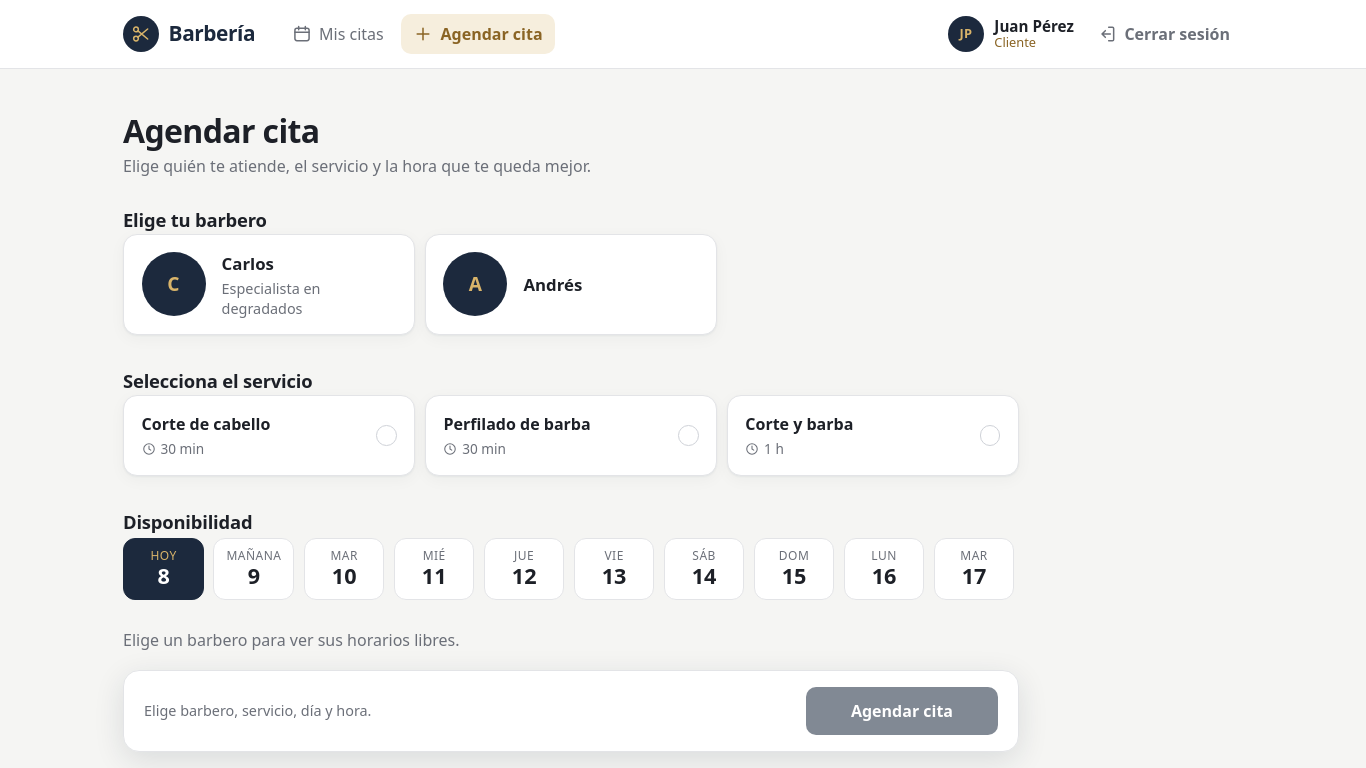
Test: agendar cita (HU-01, HU-02, HU-07) › agenda la cita y confirma en Mis citas
Click the radio button labelled "Carlos".
click(269, 284)  # box 123,234 -> 415,335
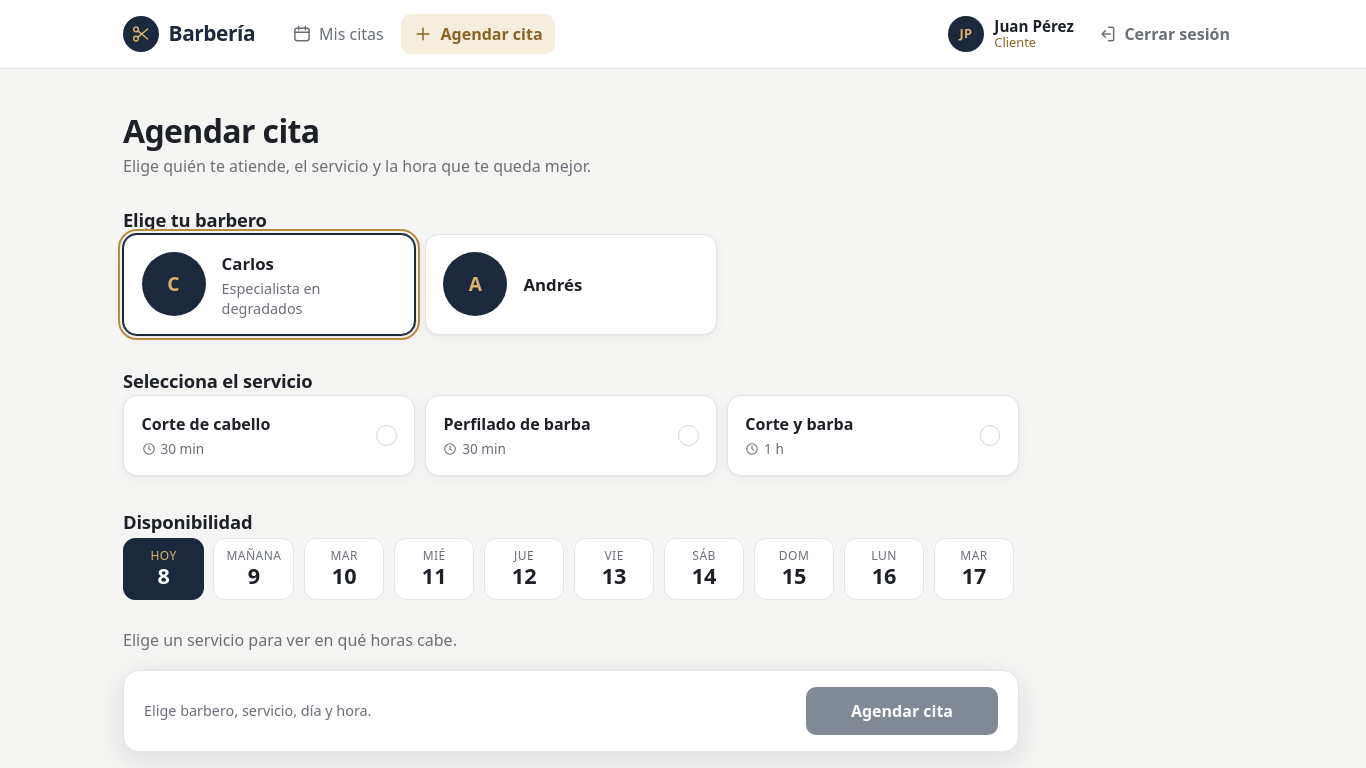
Click the radio button labelled "Corte de cabello".
click(269, 435)  # box 123,395 -> 415,476
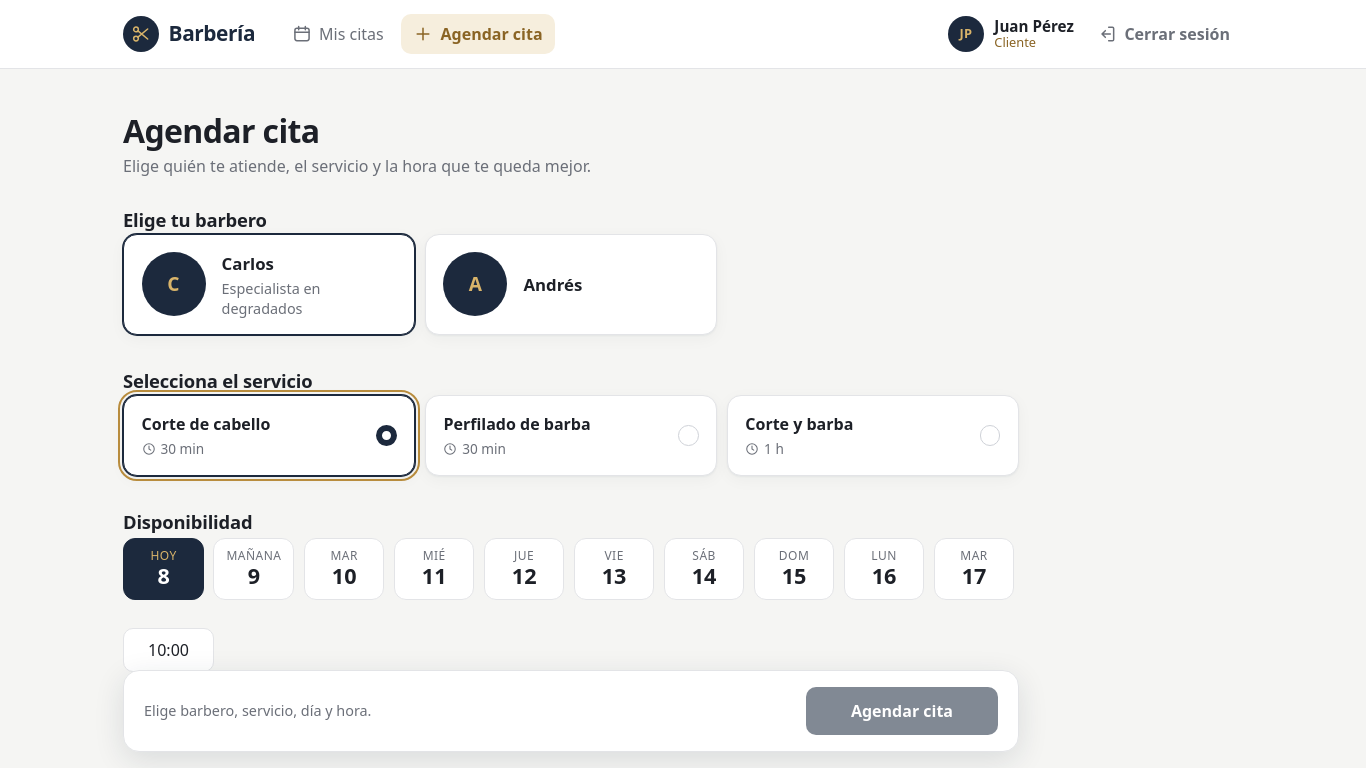
Click the radio button labelled "Mañana 9".
click(254, 569)  # box 213,538 -> 294,600
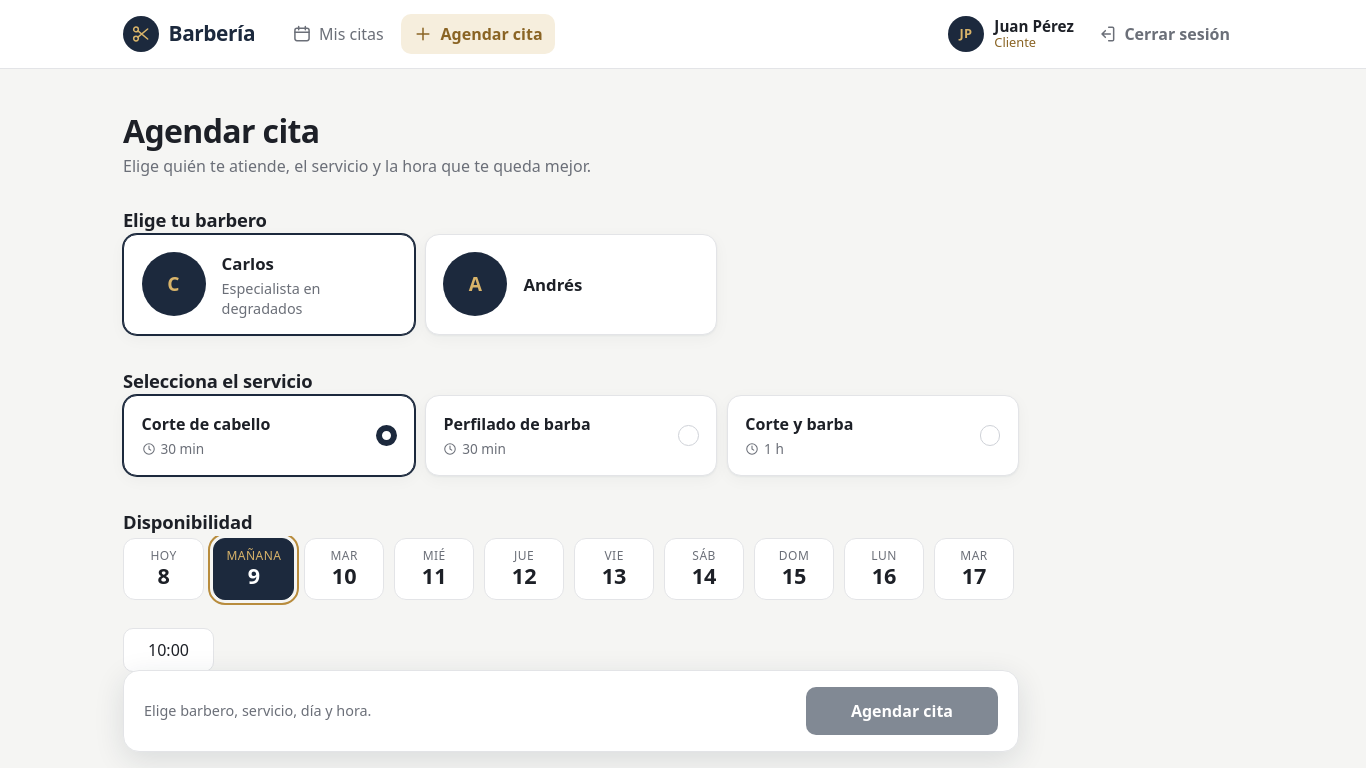
Click the radio button labelled "10:00".
click(168, 650)  # box 123,628 -> 214,672
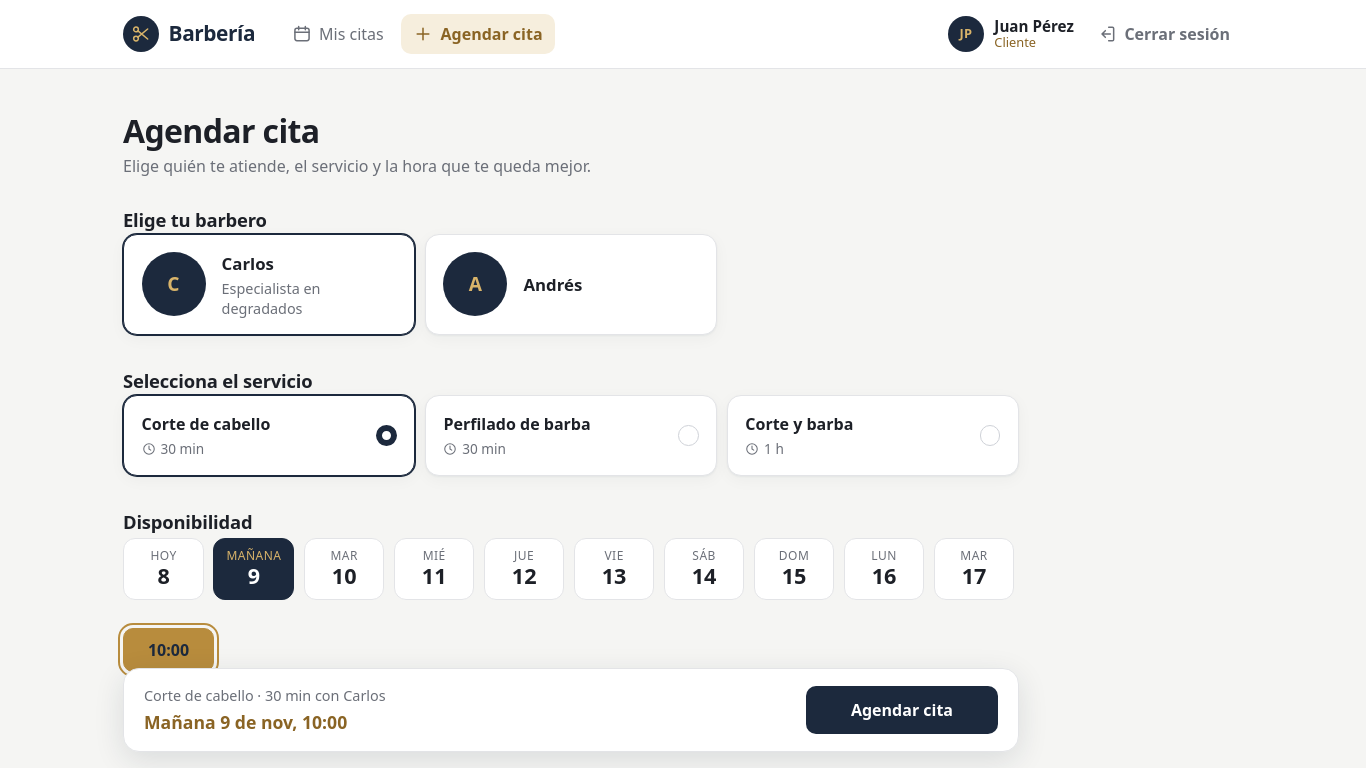
Now the text "Corte de cabello · 30 min con Carlos" is shown, box 144,685 -> 386,706
Click the button "Agendar cita".
click(902, 710)  # box 806,686 -> 998,734
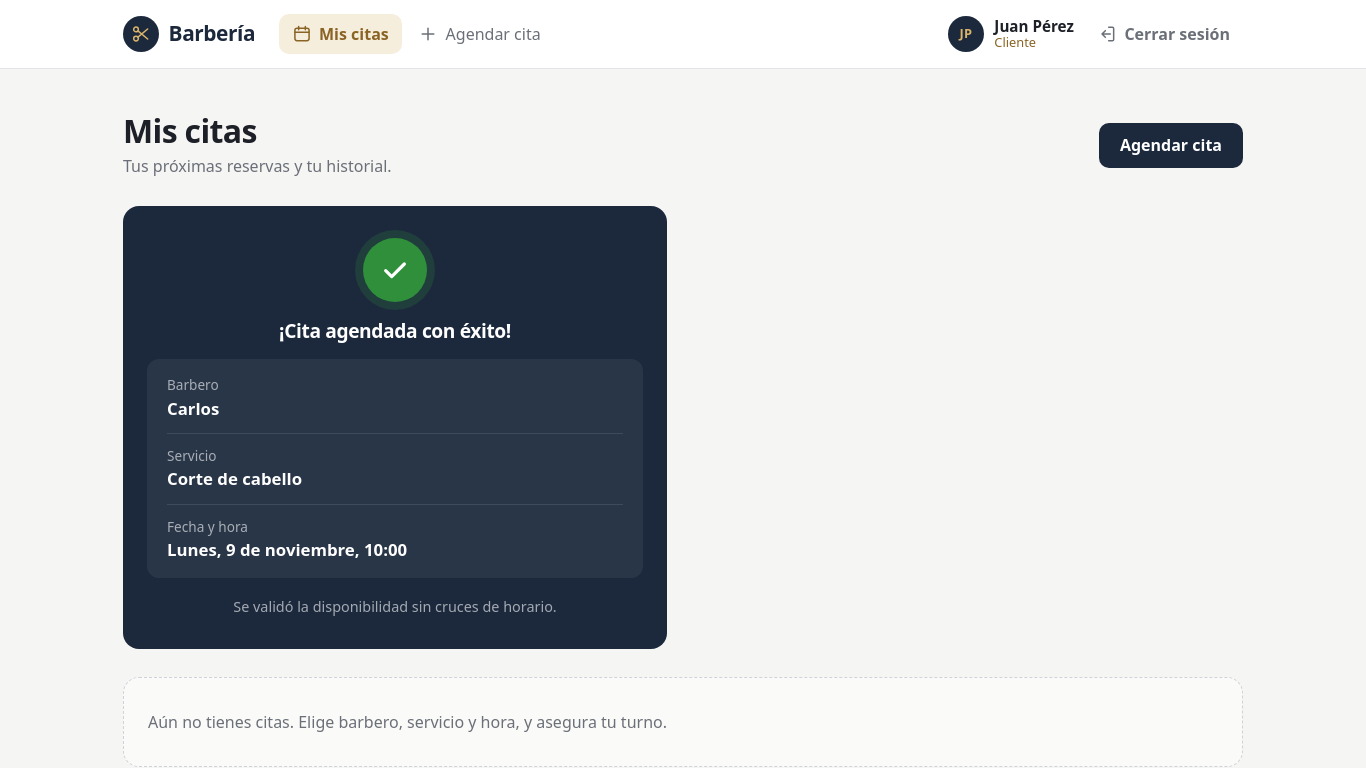
Now the message "Cita agendada" shows "¡Cita agendada con éxito!", box 279,317 -> 511,344
Now the message "Cita agendada" shows "Corte de cabello", box 167,467 -> 302,490
Now the message "Cita agendada" shows ", 10:00", box 123,206 -> 667,649
